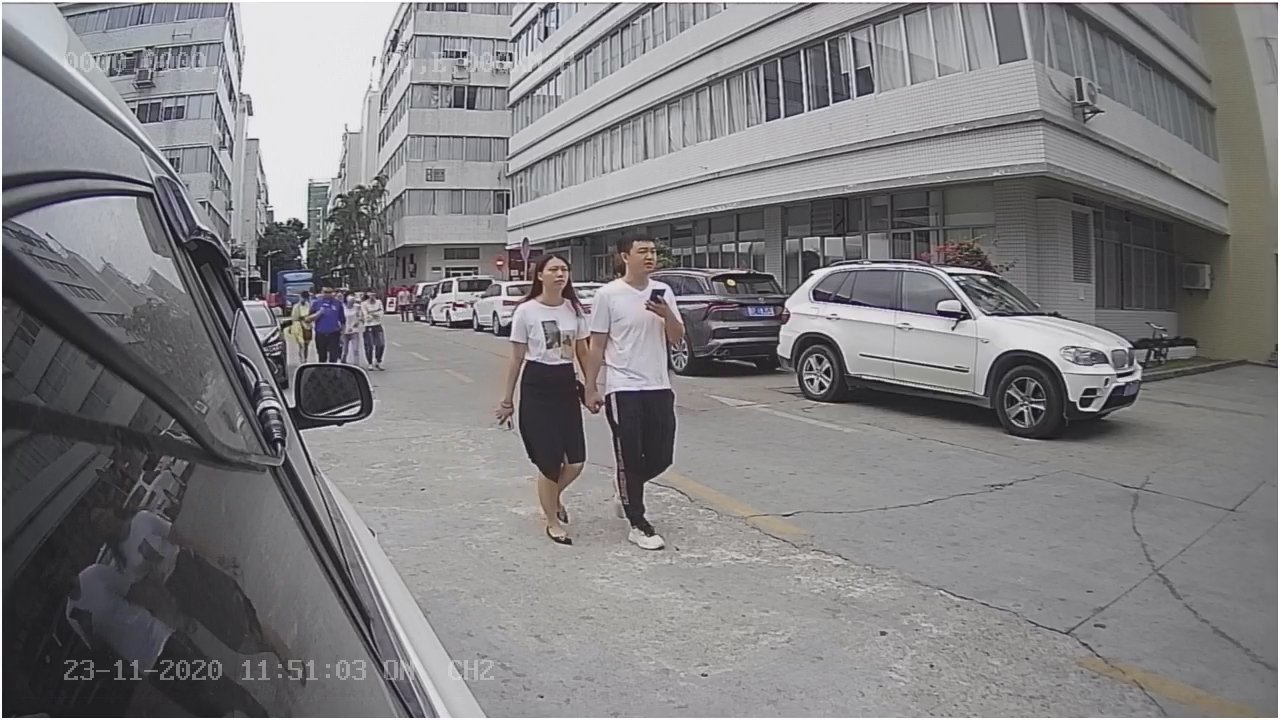person: (492, 233, 617, 546)
